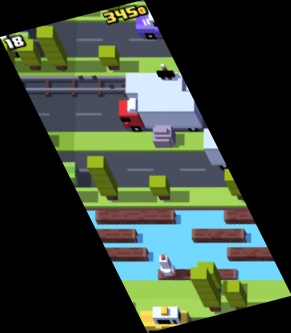car: (134, 9, 186, 39), (140, 306, 191, 333), (34, 157, 78, 188), (1, 30, 35, 61)
duck: (158, 253, 175, 277)
light off: (157, 64, 181, 93)
log: (96, 209, 176, 225), (158, 269, 236, 281), (191, 228, 247, 243), (222, 208, 271, 224), (97, 246, 148, 261), (90, 228, 137, 242), (228, 248, 279, 260)
rail: (11, 74, 193, 97)
rock: (153, 124, 176, 150)
tree: (36, 26, 67, 72), (189, 267, 222, 310), (87, 157, 118, 201), (17, 39, 41, 72), (197, 262, 221, 292), (224, 280, 247, 311), (224, 170, 247, 200), (97, 45, 119, 71), (149, 175, 170, 200), (1, 41, 16, 69)
truck: (119, 93, 205, 134), (203, 128, 283, 170), (126, 74, 202, 107)
water: (87, 211, 283, 279)
